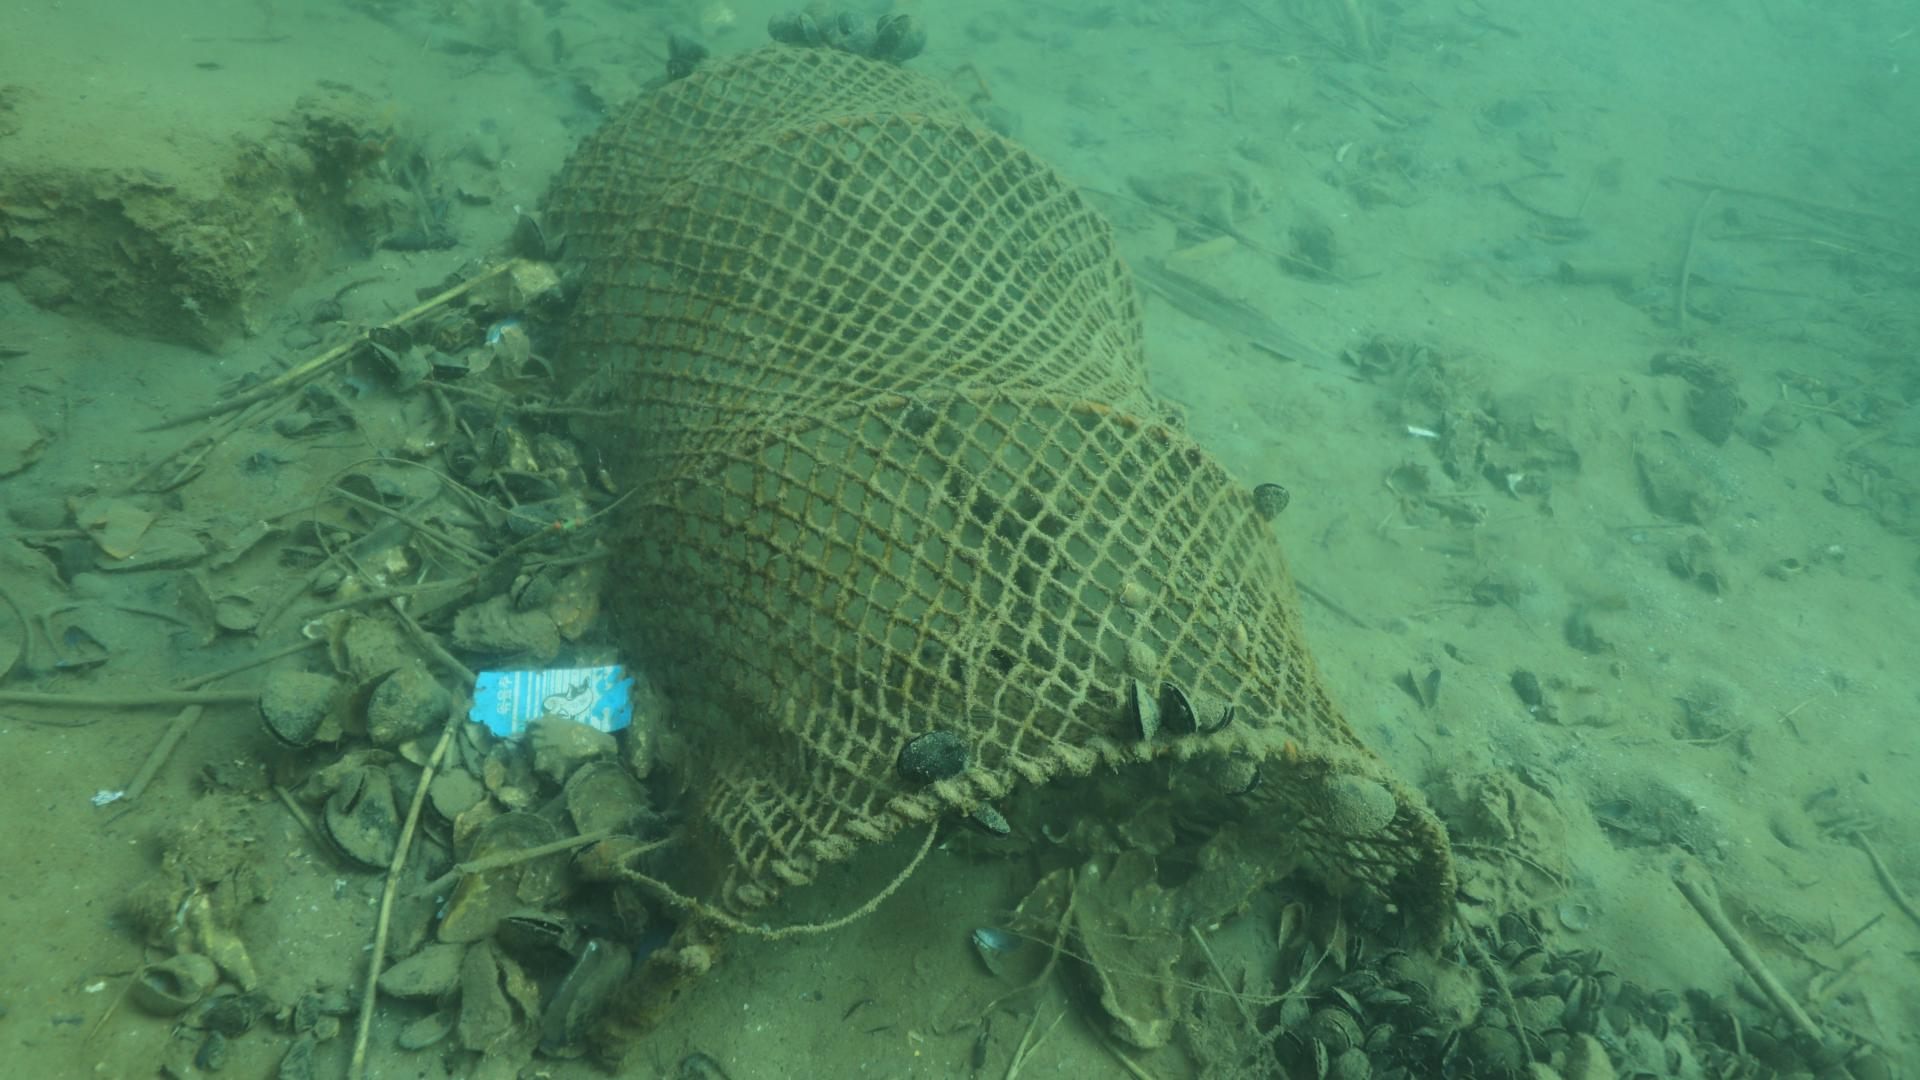spring fish trap: (533, 44, 1458, 1077)
